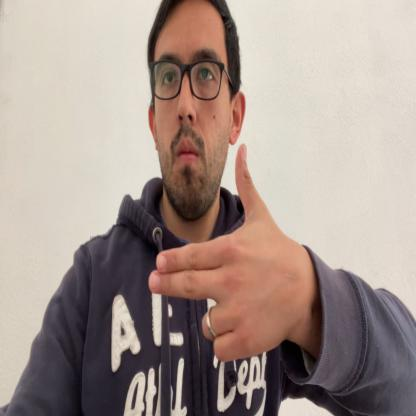H: (148, 140, 298, 362)
